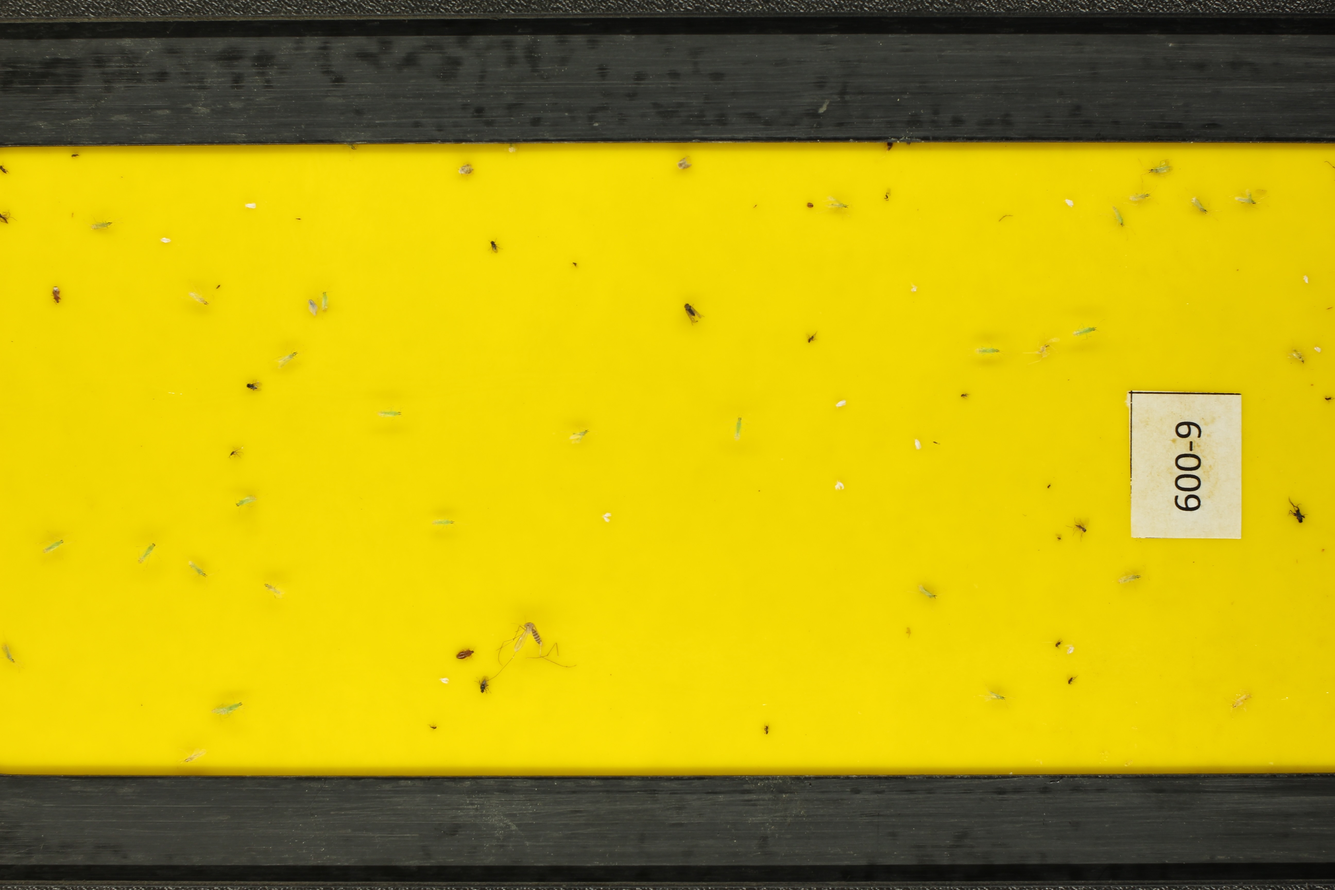MR: (30, 523, 75, 567), (128, 531, 173, 572), (1182, 187, 1223, 229), (967, 333, 1012, 371), (1230, 185, 1274, 223), (1107, 564, 1158, 596), (1066, 315, 1111, 348), (822, 187, 859, 226), (266, 341, 311, 373), (0, 635, 32, 679), (1103, 201, 1134, 245), (1220, 685, 1260, 718), (1133, 156, 1180, 184), (1122, 183, 1169, 211), (185, 552, 219, 589), (255, 572, 287, 609), (210, 695, 252, 723), (558, 423, 603, 449), (84, 210, 128, 236), (178, 742, 214, 771), (369, 401, 409, 427), (725, 410, 752, 448), (909, 579, 946, 606), (230, 484, 262, 515), (183, 284, 216, 314), (978, 684, 1015, 708), (318, 285, 339, 319), (426, 512, 445, 533)
WF: (1060, 194, 1078, 212), (831, 476, 847, 496), (910, 435, 925, 453), (243, 200, 260, 215), (601, 508, 615, 524), (832, 397, 849, 410), (438, 673, 452, 687), (157, 235, 173, 247), (1302, 272, 1311, 289), (907, 283, 919, 294), (1065, 644, 1077, 655), (1312, 345, 1324, 355)
